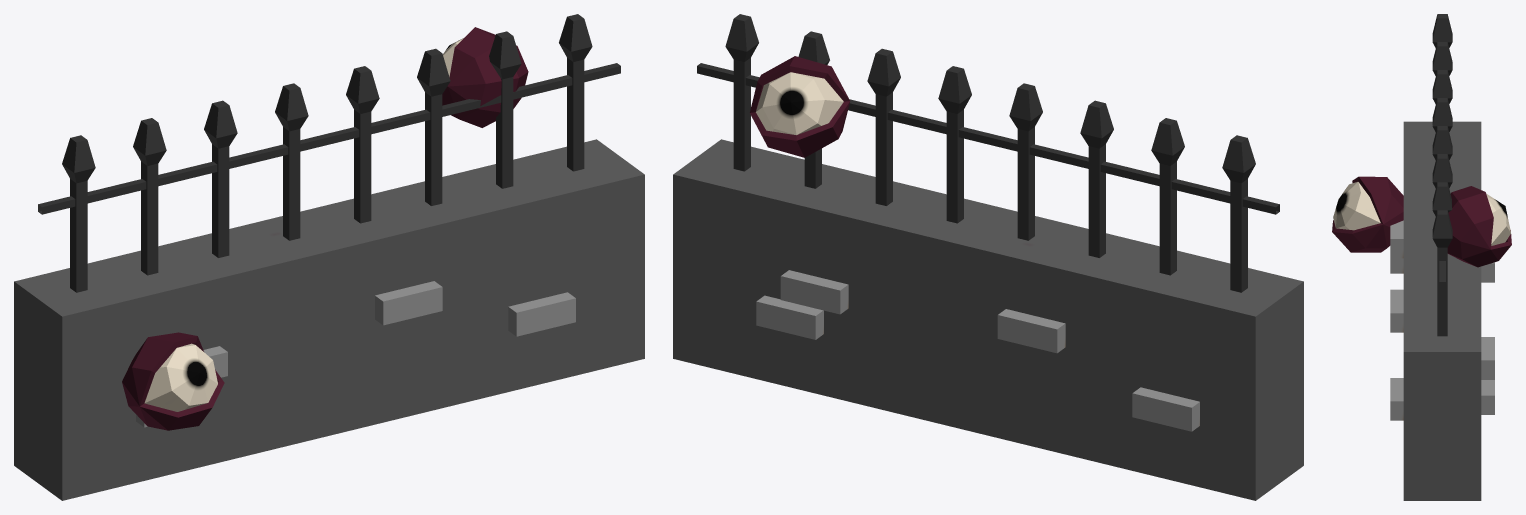
File: Fence_Eye.fbx
3 views of the same model, side by side, from view 1: azimuth 30°, elevation 25°; view 2: azimuth 150°, elevation 25°; view 3: azimuth 270°, elevation 25° (orthographic). The views are drawn at different scales.
Parts seen in each view (by area): view 1: Fence_Eye; view 2: Fence_Eye; view 3: Fence_Eye.
Boxes of the visible parts, left/top/right/bottom form: Fence_Eye: left=14, top=14, right=644, bottom=500; Fence_Eye: left=673, top=14, right=1303, bottom=500; Fence_Eye: left=1332, top=14, right=1511, bottom=500.
Bounding box in the file's own units: 2 × 1.1 × 0.6609.
